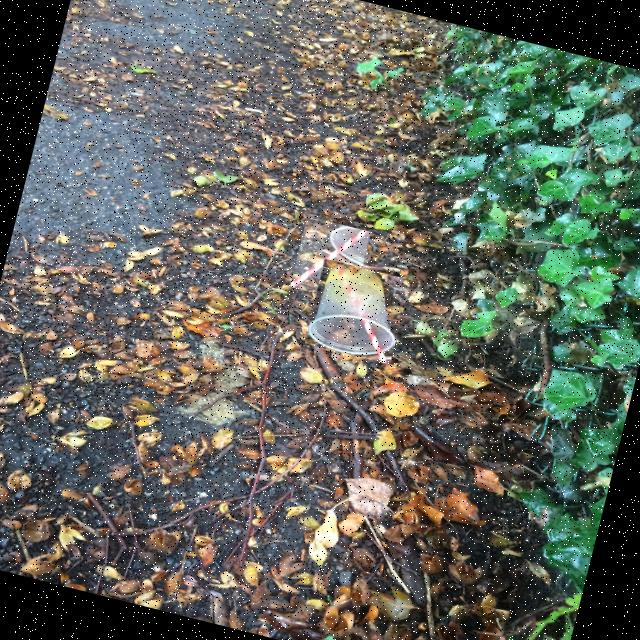Disposable plastic cup: (309, 267, 395, 355)
Paper straw: (290, 230, 370, 288)
